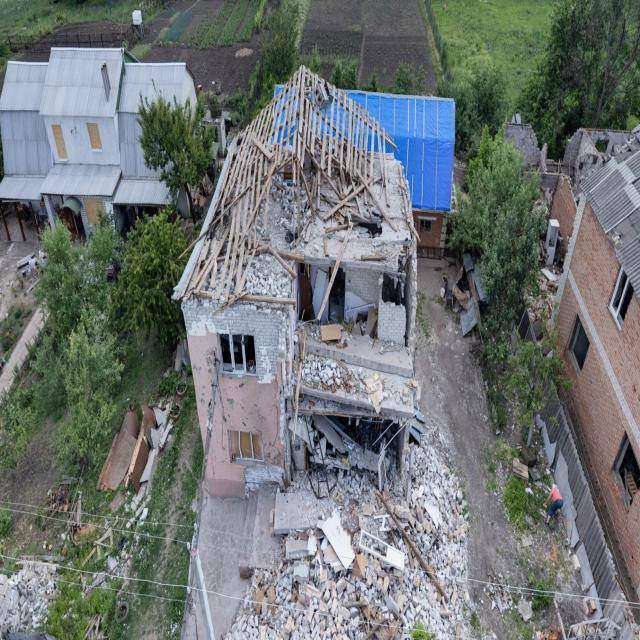broken_window: (218, 331, 256, 378), (608, 265, 634, 330), (567, 312, 590, 378), (228, 428, 264, 464)
building: (171, 63, 424, 500), (540, 124, 639, 632), (1, 45, 200, 254)
